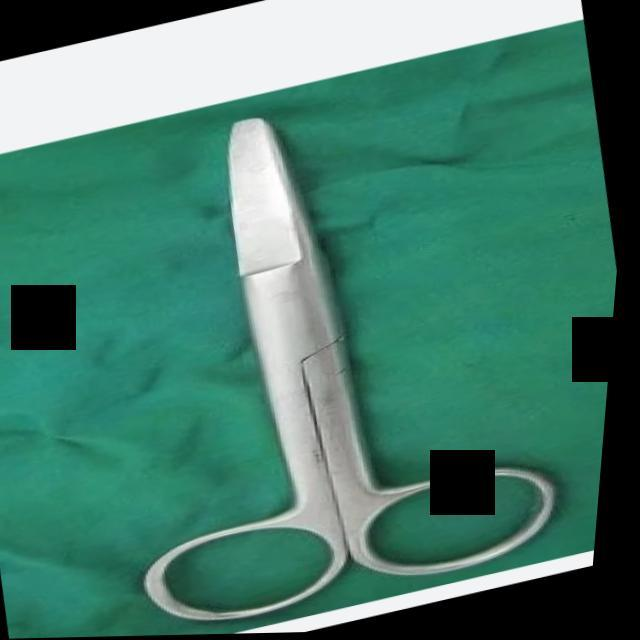Straight Mayo: (53, 51, 614, 638)
